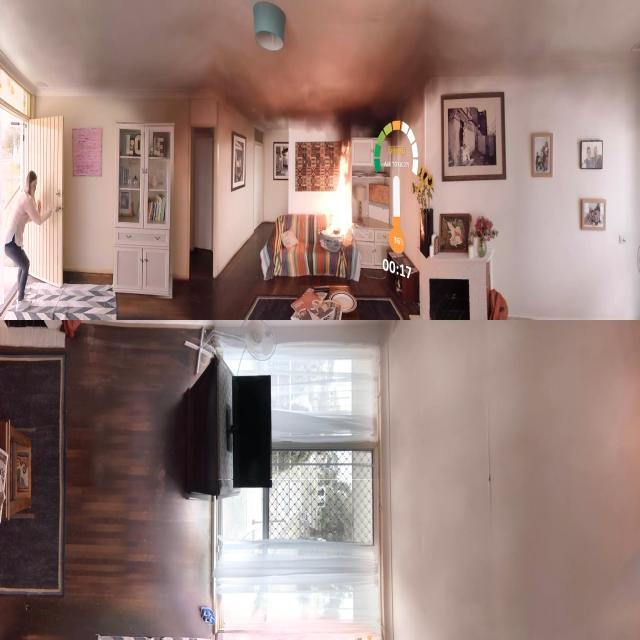Fire: (307, 121, 396, 280)
